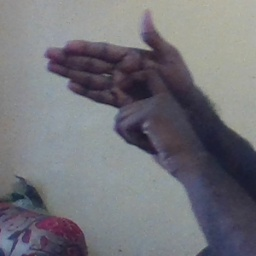R: (48, 8, 194, 152)
